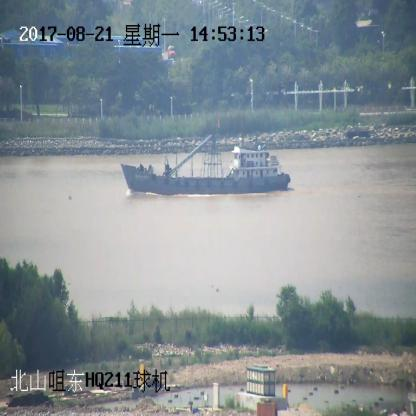Fishing Boat: (121, 112, 289, 196)
